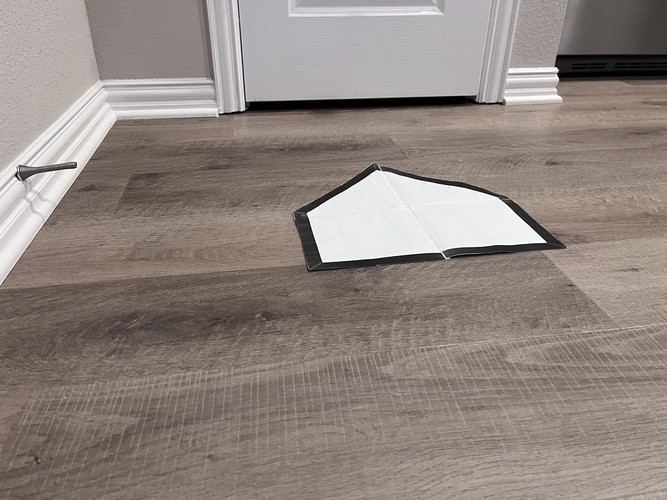homeplate: (293, 164, 566, 273)
